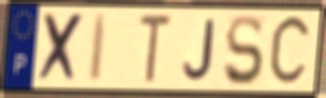C: (266, 12, 314, 91)
I: (88, 12, 111, 85)
J: (180, 17, 215, 83)
S: (222, 13, 265, 89)
T: (137, 12, 174, 86)
X: (37, 11, 87, 85)
